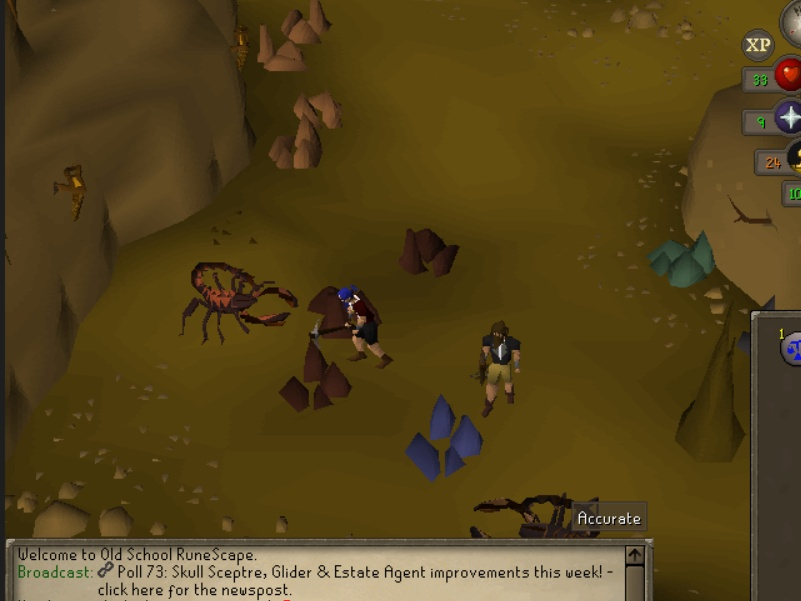adamant: (646, 228, 718, 288)
copper: (266, 112, 321, 179), (257, 20, 309, 73), (279, 1, 333, 43), (293, 88, 347, 129)
iron: (277, 337, 356, 414), (398, 221, 463, 280), (310, 280, 375, 339)
mithril: (398, 389, 489, 480)
